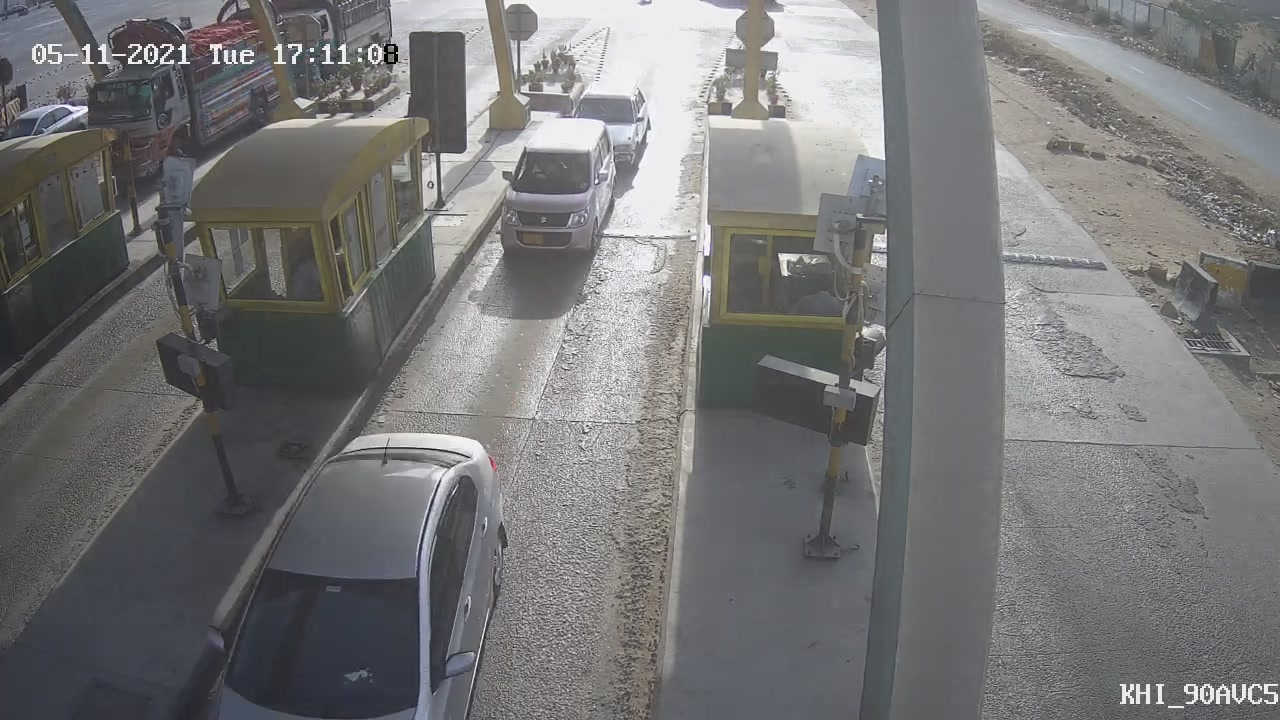F1: (474, 99, 635, 274)
